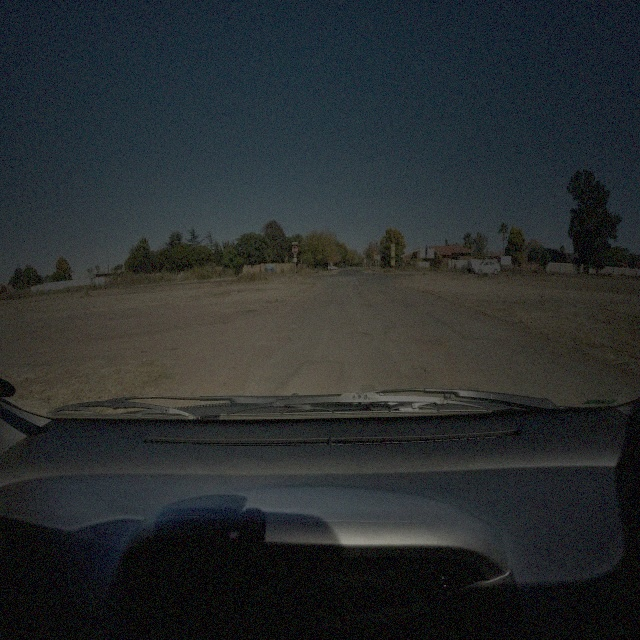pothole: (418, 331, 449, 347), (272, 330, 294, 346), (408, 362, 428, 377), (354, 328, 371, 336)
